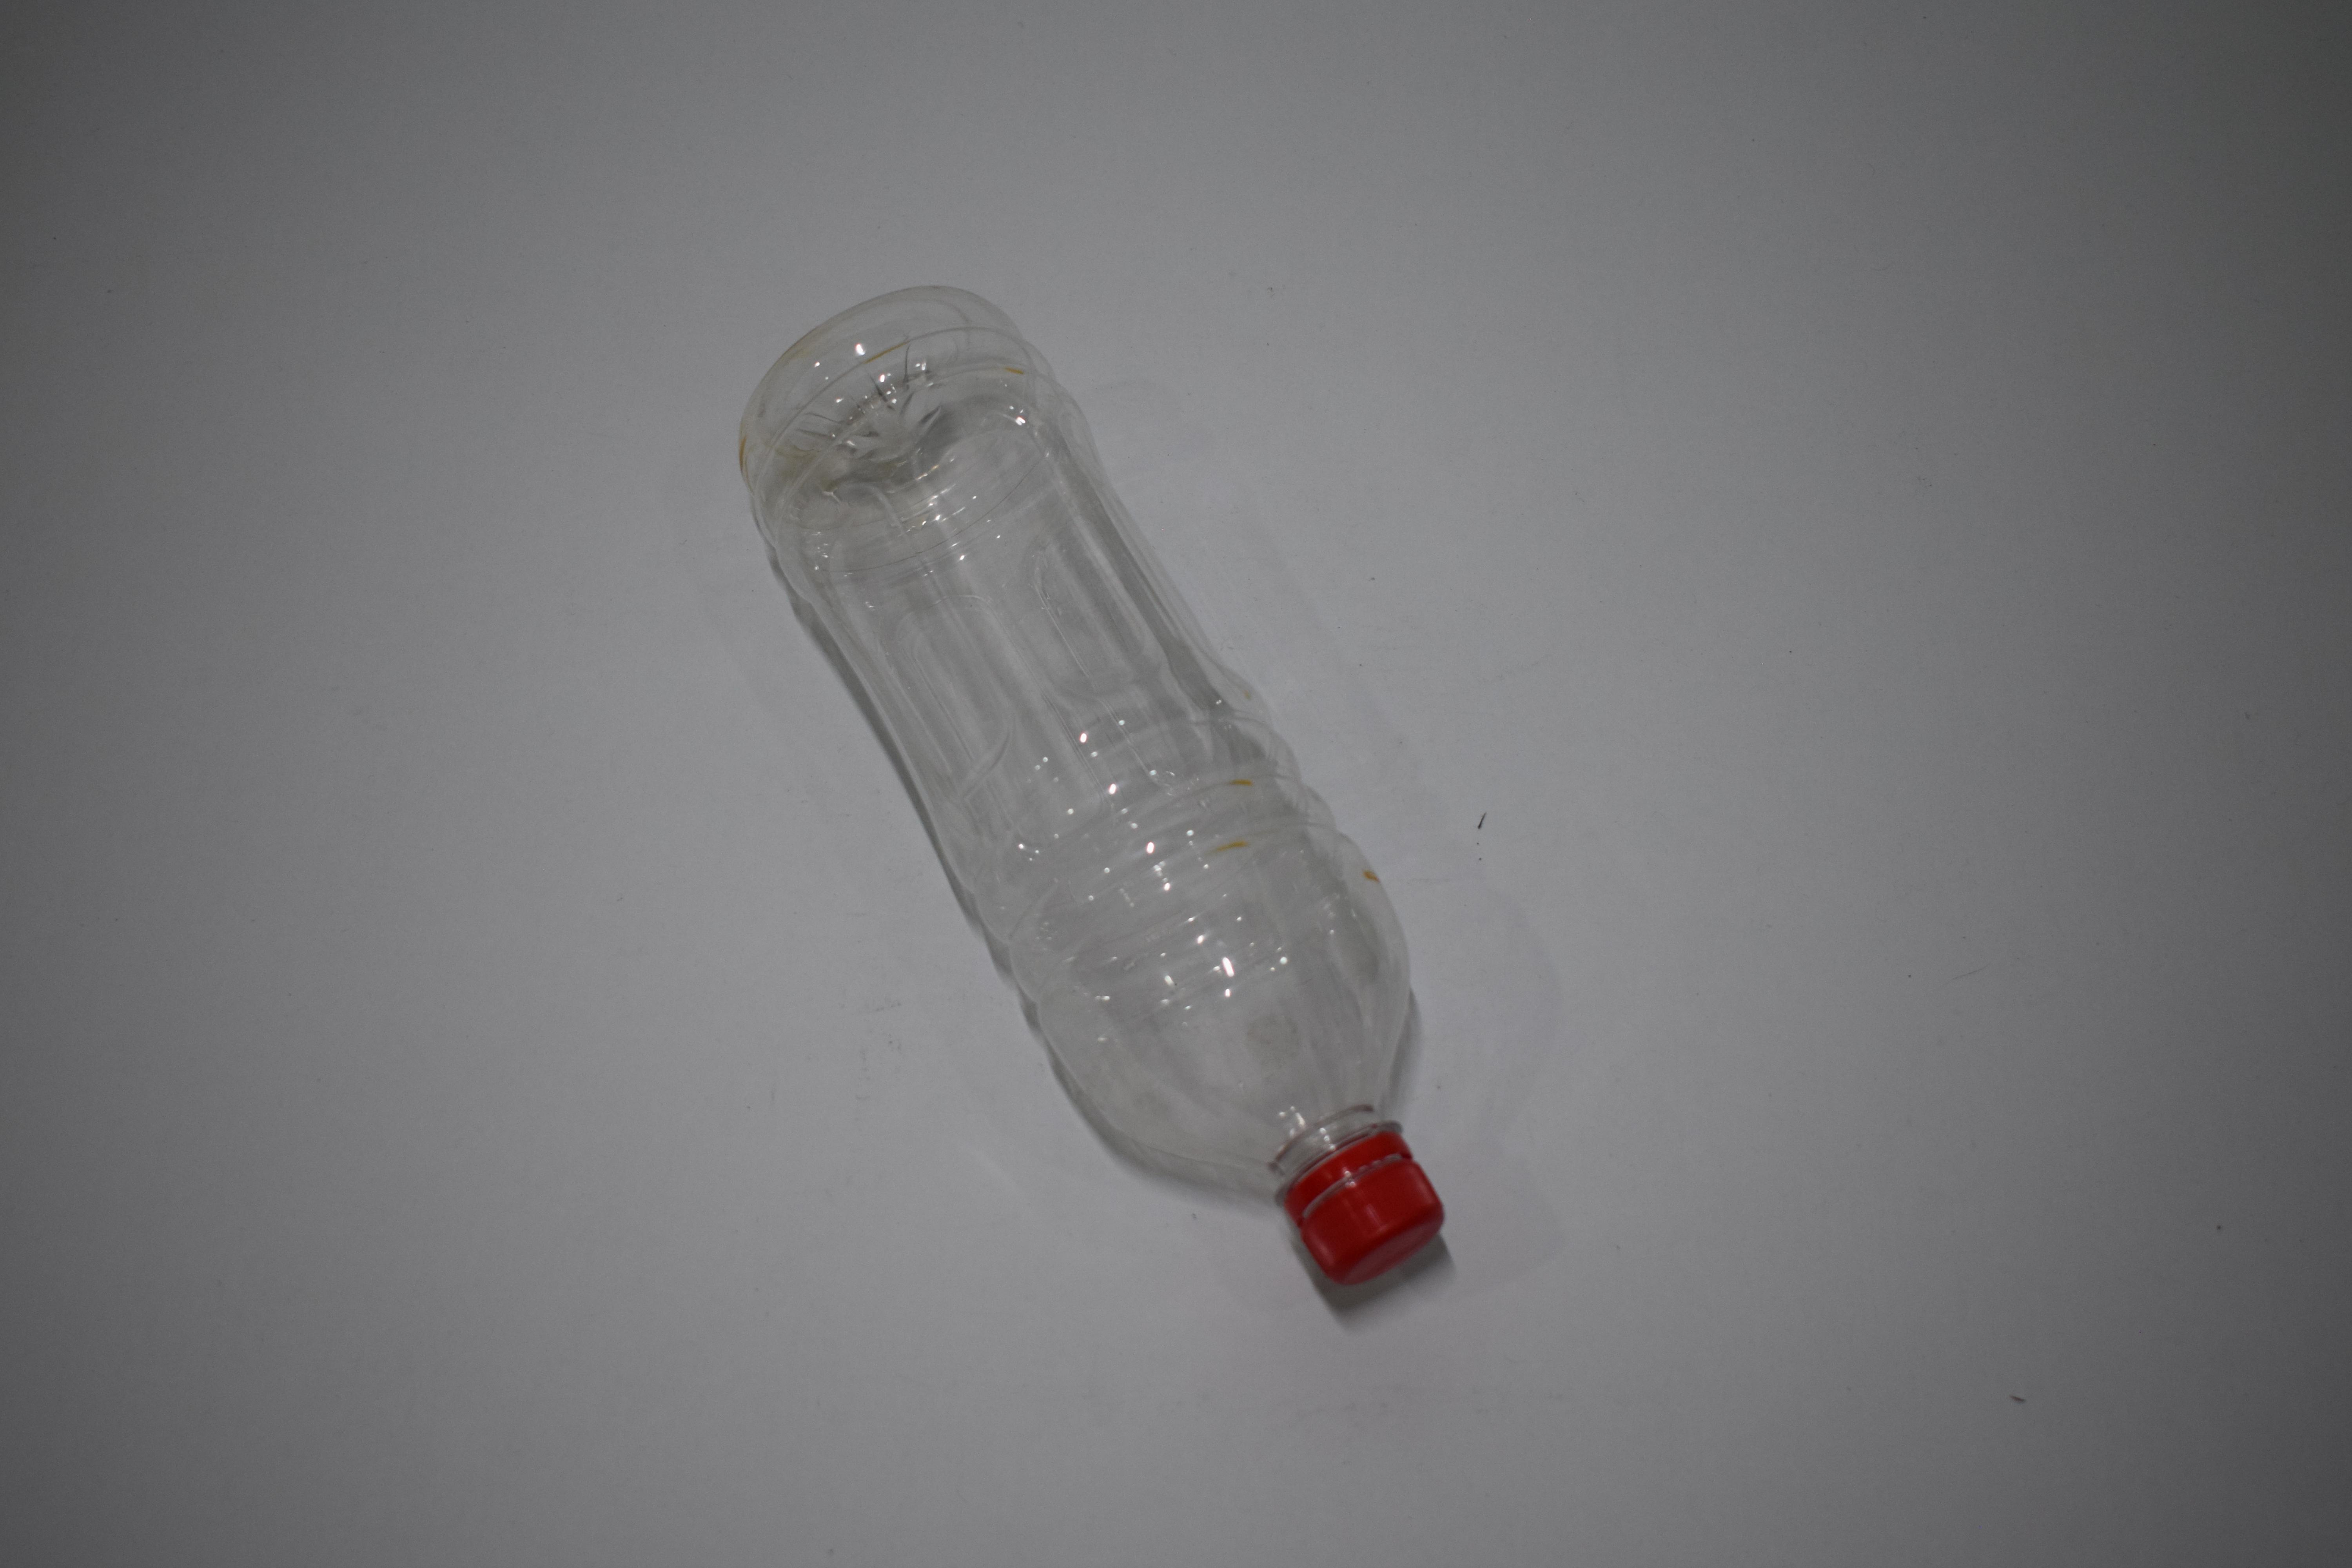bottle: (724, 0, 1439, 471)
